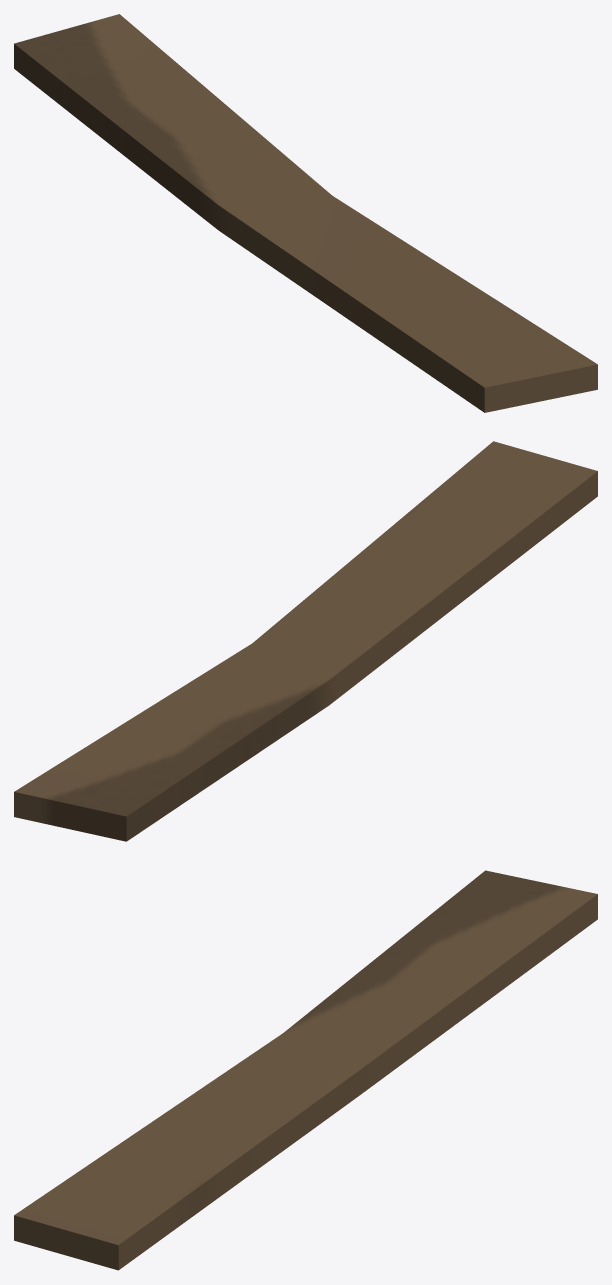
Rendered from SM_Bld_Dock_Plank_05.fbx.
3 renders of one model, top to bottom at view 1: azimuth 30°, elevation 25°; view 2: azimuth 150°, elevation 25°; view 3: azimuth 330°, elevation 25°, orthographic.
Visible parts, largest first — view 1: SM_Bld_Dock_Plank_05; view 2: SM_Bld_Dock_Plank_05; view 3: SM_Bld_Dock_Plank_05.
Part boxes in pixels (left/top/right/bottom): SM_Bld_Dock_Plank_05: left=14, top=14, right=597, bottom=412; SM_Bld_Dock_Plank_05: left=14, top=441, right=597, bottom=841; SM_Bld_Dock_Plank_05: left=14, top=870, right=597, bottom=1270.
Bounding box in the file's own units: 32.28 × 11.05 × 245.
